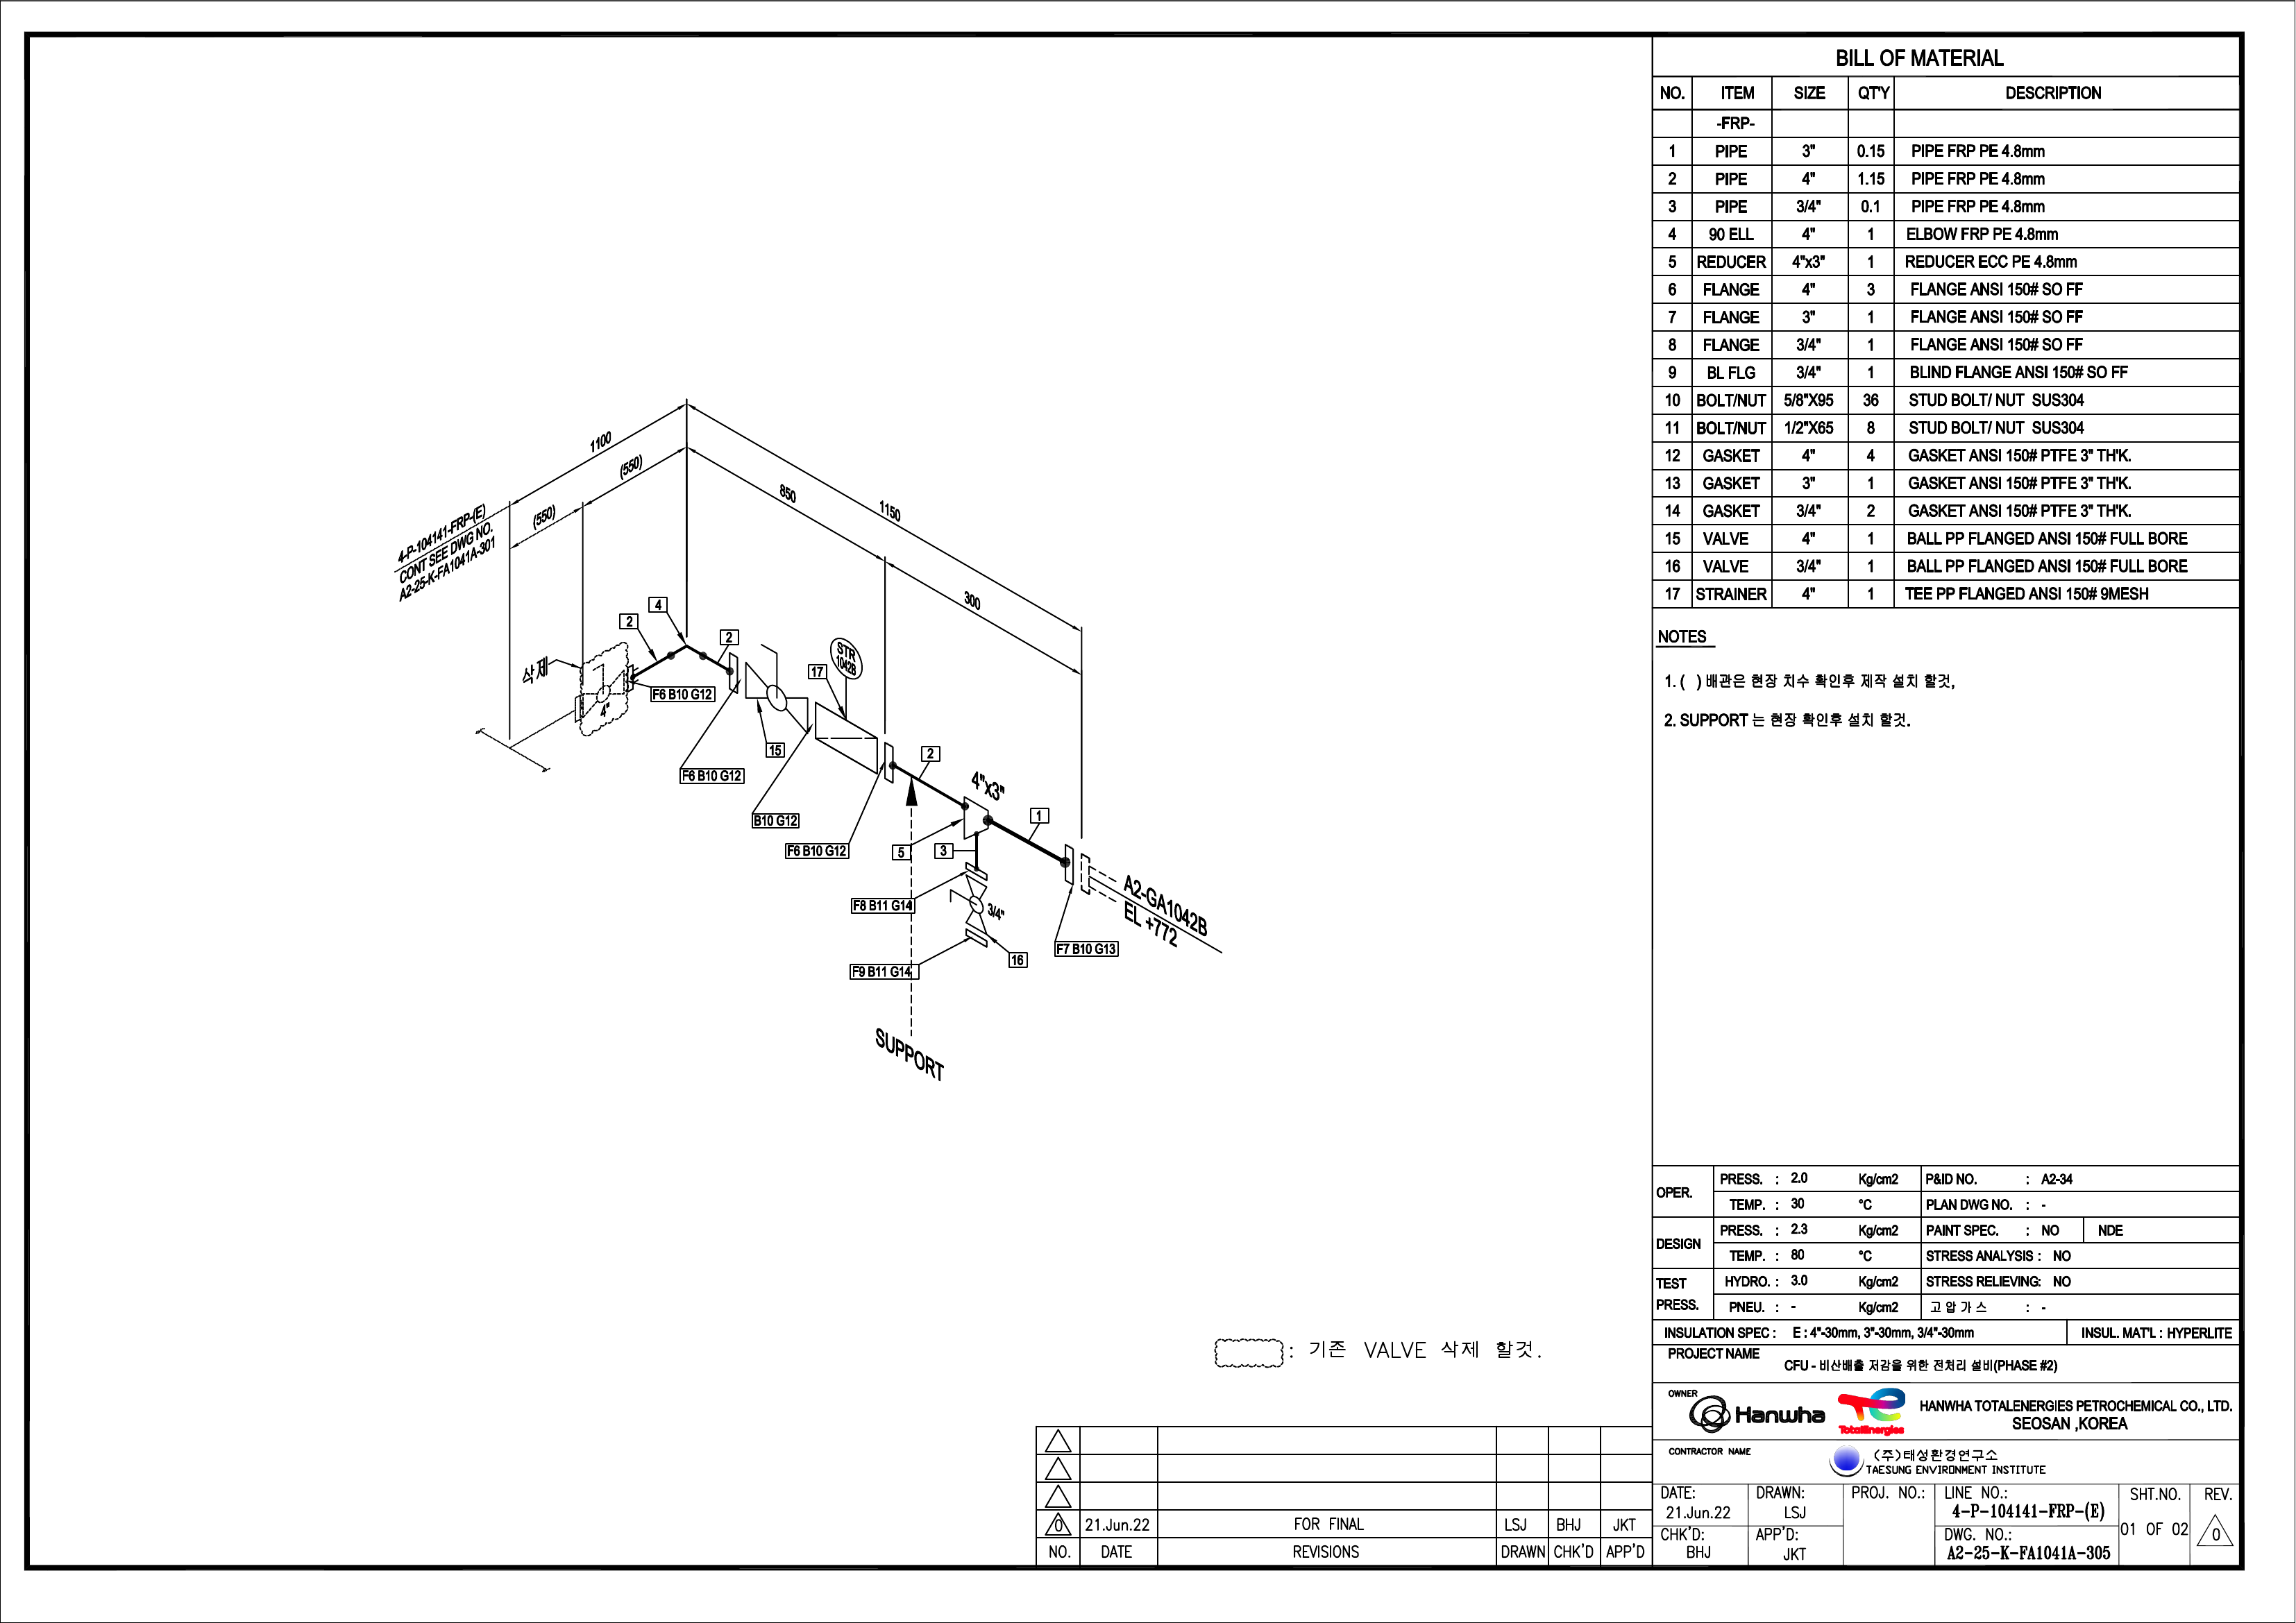table: (1650, 21, 2250, 620)
